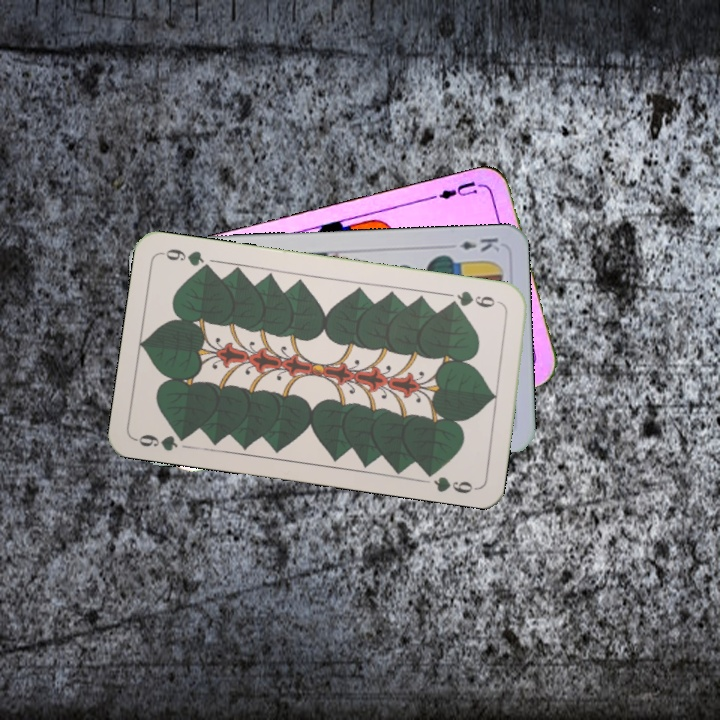EK: (456, 233, 502, 254)
EU: (435, 176, 487, 202)
G9: (132, 428, 192, 454), (445, 286, 505, 311)
